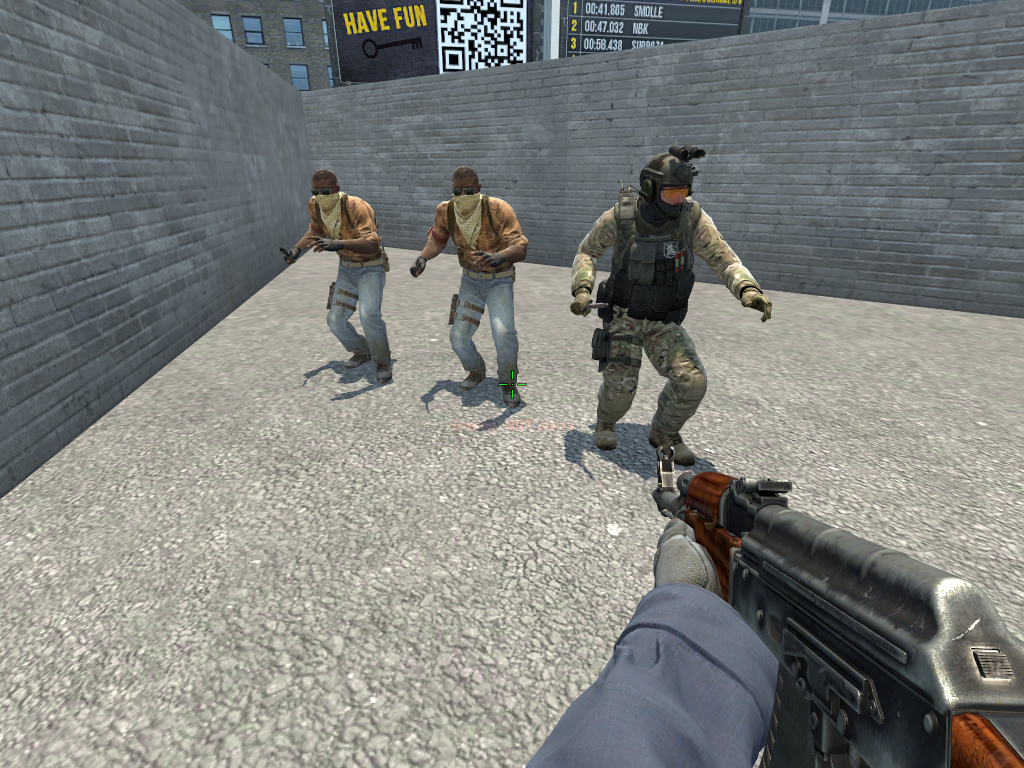ct head: (637, 144, 710, 222)
tr head: (449, 165, 485, 224), (308, 168, 341, 215)
